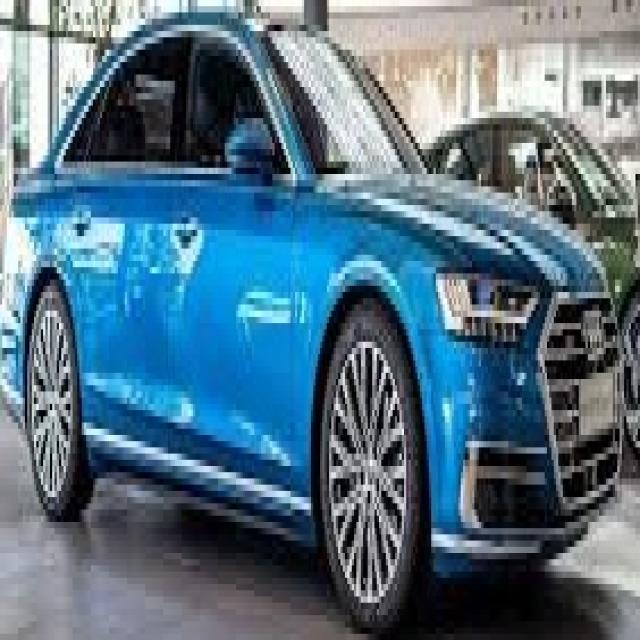blue: (7, 31, 640, 640)
